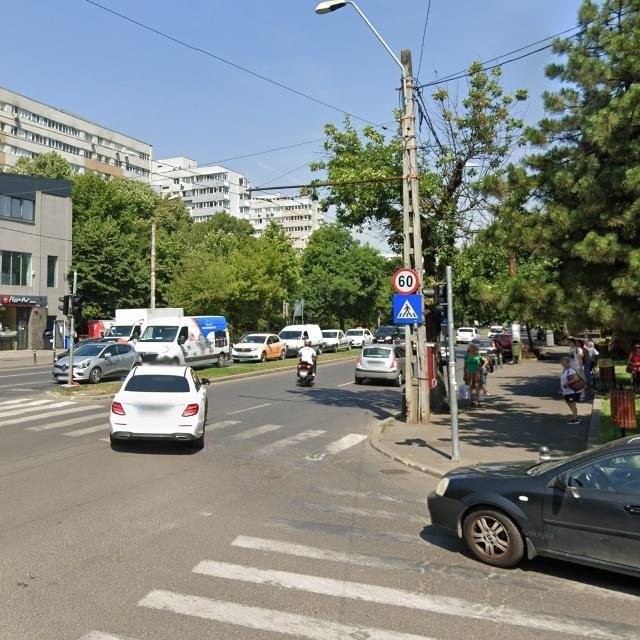forb_speed_over_60: (394, 269, 419, 294)
info_crosswalk: (393, 294, 423, 324)
